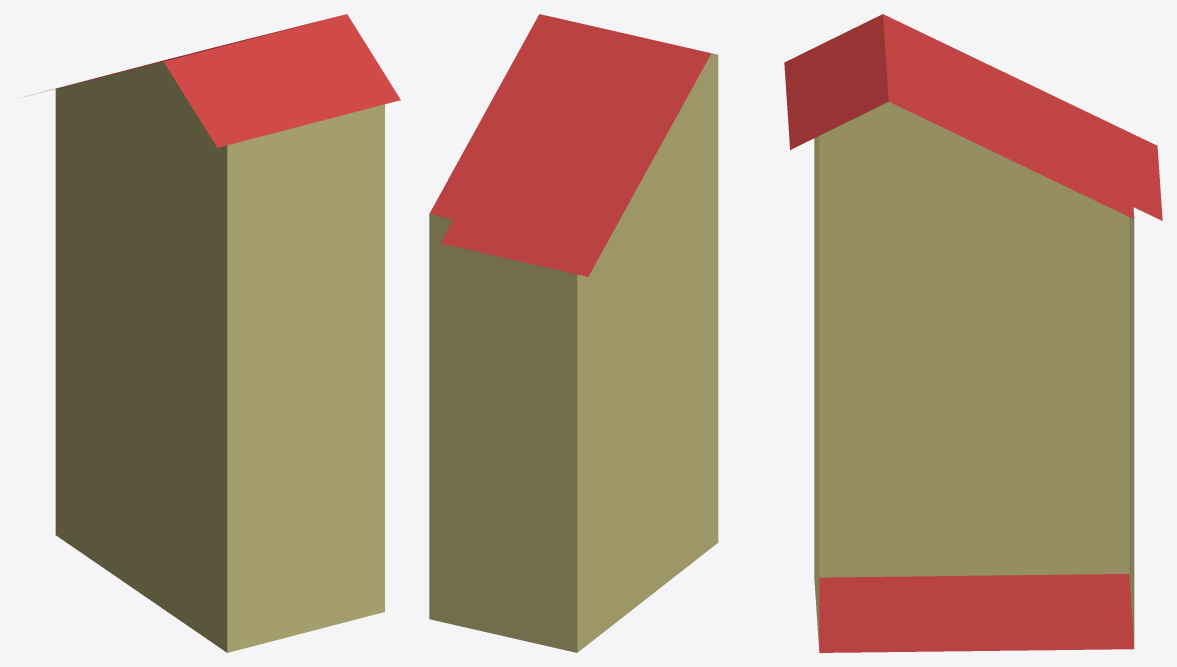
3 views of the same model, side by side, from view 1: azimuth 30°, elevation 25°; view 2: azimuth 150°, elevation 25°; view 3: azimuth 270°, elevation 25° (orthographic). The views are drawn at different scales.
Bounding box in the file's own units: 3.74 × 6.49 × 10.41.
